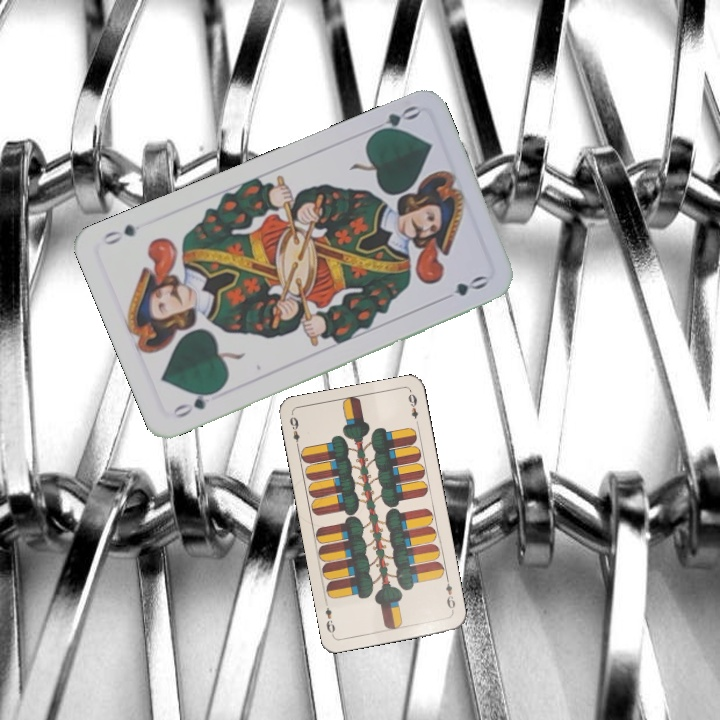E9: (441, 574, 458, 615), (286, 412, 302, 452)
GO: (367, 101, 422, 139), (168, 385, 222, 421)
